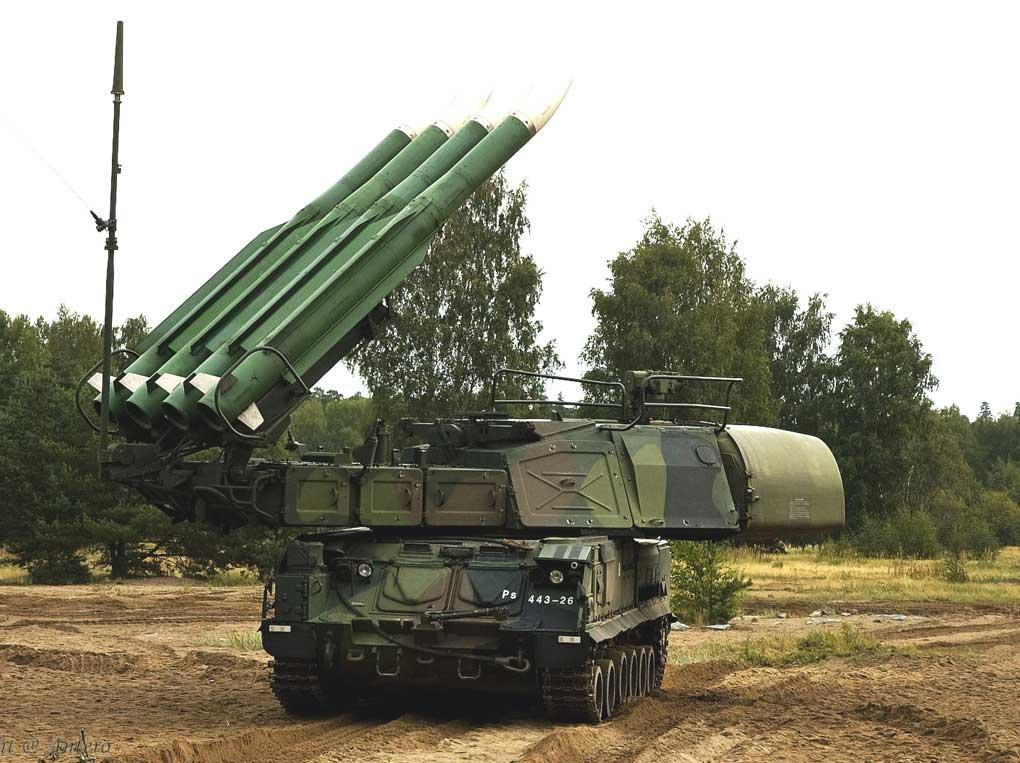rszo: (55, 17, 881, 749)
